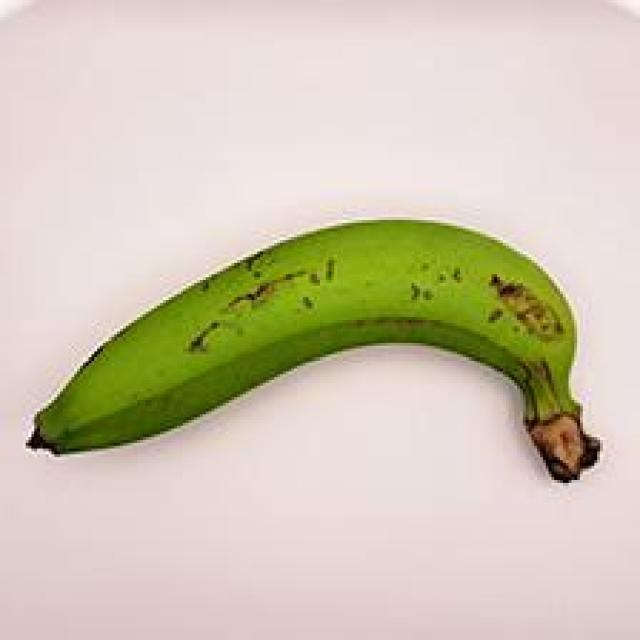Raw: (0, 198, 624, 520)
